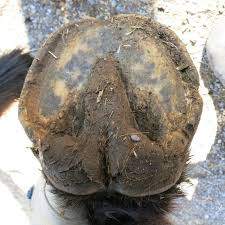horsesole: (18, 15, 203, 142)
